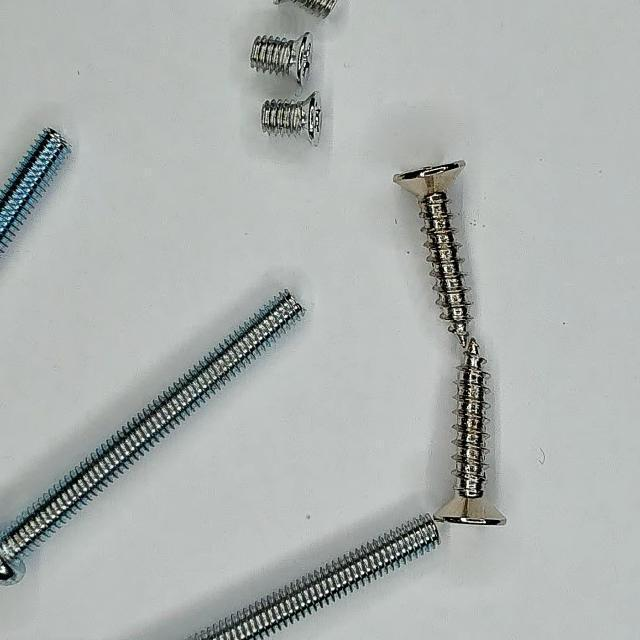Screw: (0, 292, 303, 586), (187, 515, 441, 640), (394, 160, 471, 346), (435, 338, 505, 526), (0, 128, 71, 254), (251, 32, 312, 84), (263, 91, 322, 144)
